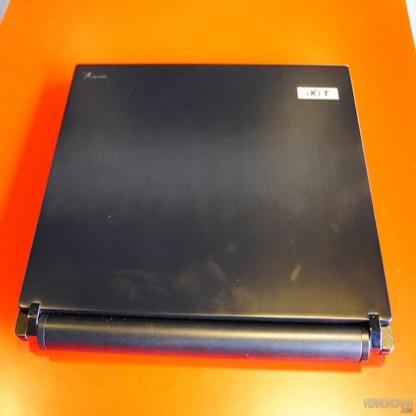board: (13, 60, 394, 354)
